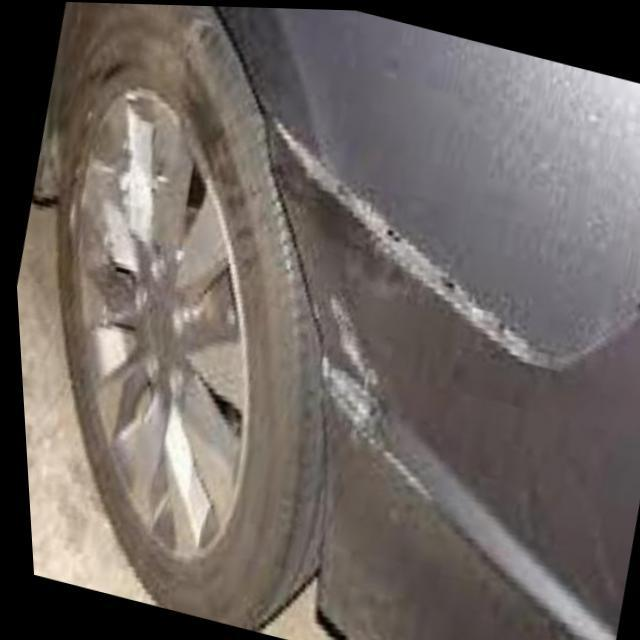crack: (314, 273, 430, 506)
rub: (271, 99, 542, 367)
